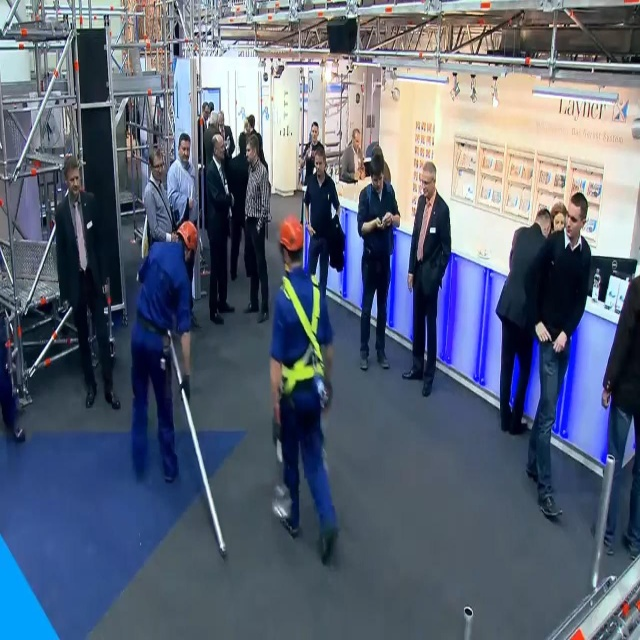Arnes_seguridad: (278, 266, 325, 388)
